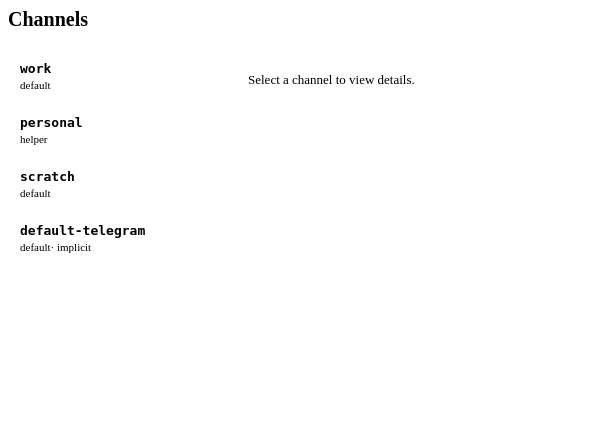
it: Channels page › clicking channel shows detail
Expected: the text "work" is shown, x1=20 y1=61 x2=51 y2=76
Click the button "work default": (36, 76) x1=20 y1=61 x2=51 y2=91
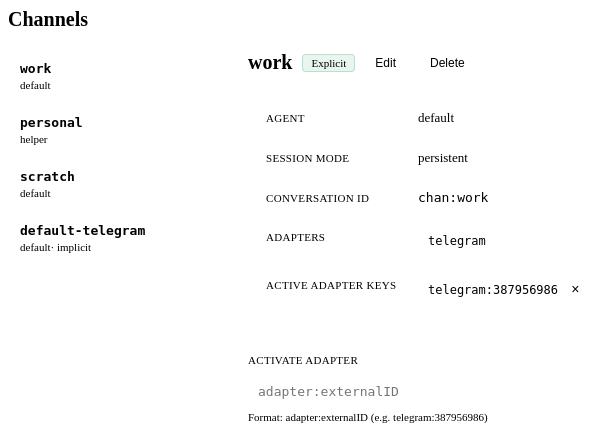
Result: the text "chan:work" is shown at x1=418 y1=190 x2=488 y2=205
Result: the text "Explicit" is shown at x1=302 y1=54 x2=355 y2=72
